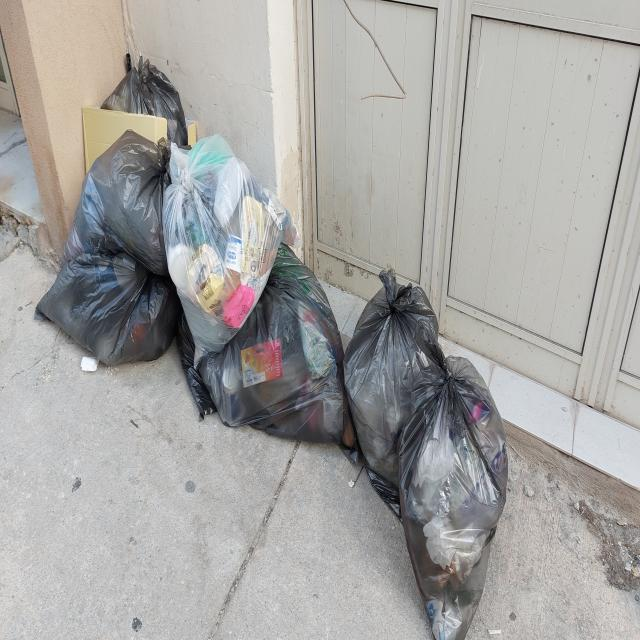Mixed Waste -Black Bag-: (176, 243, 360, 468), (36, 130, 184, 368), (400, 324, 510, 640), (345, 268, 441, 523), (102, 52, 188, 154)
Other: (83, 109, 197, 181)
Recycled Waste -Grey or Green Bag-: (164, 136, 306, 371)
